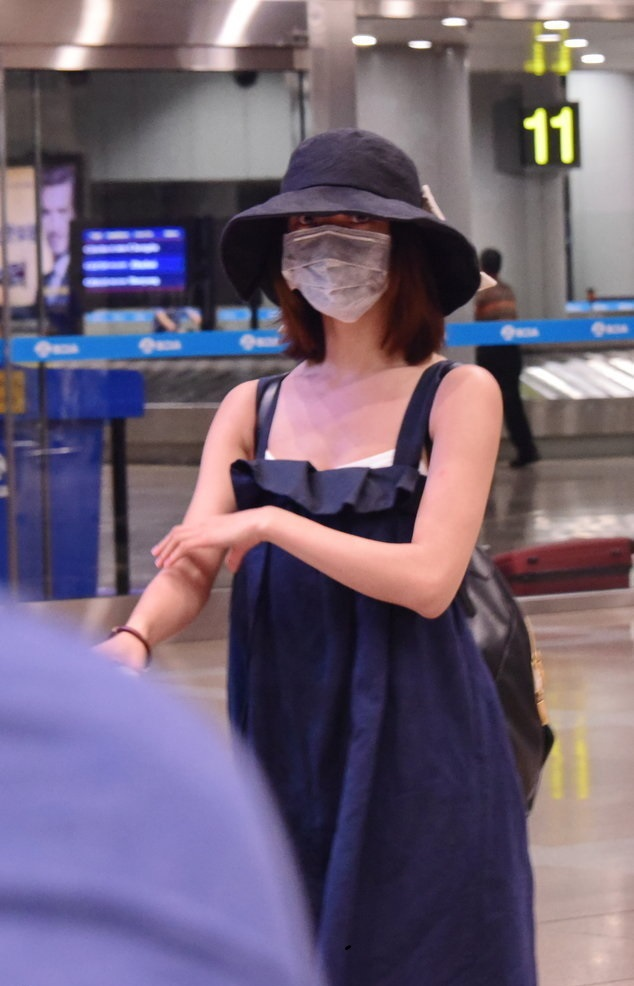face_mask: (291, 182, 389, 327)
